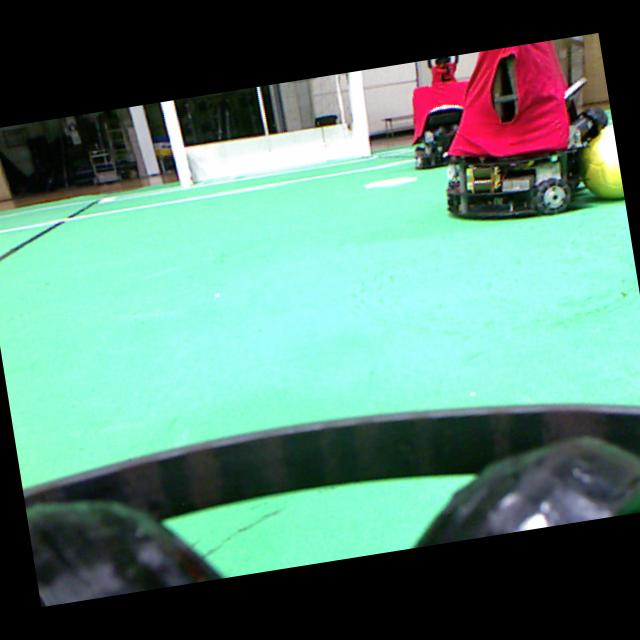ball: (583, 124, 623, 198)
goal: (161, 100, 192, 187), (347, 71, 371, 157)
